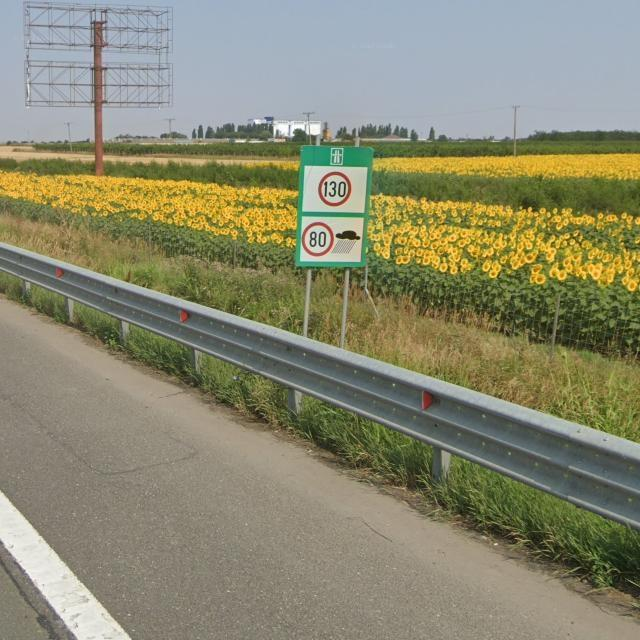forb_speed_over_80: (302, 222, 334, 257)
